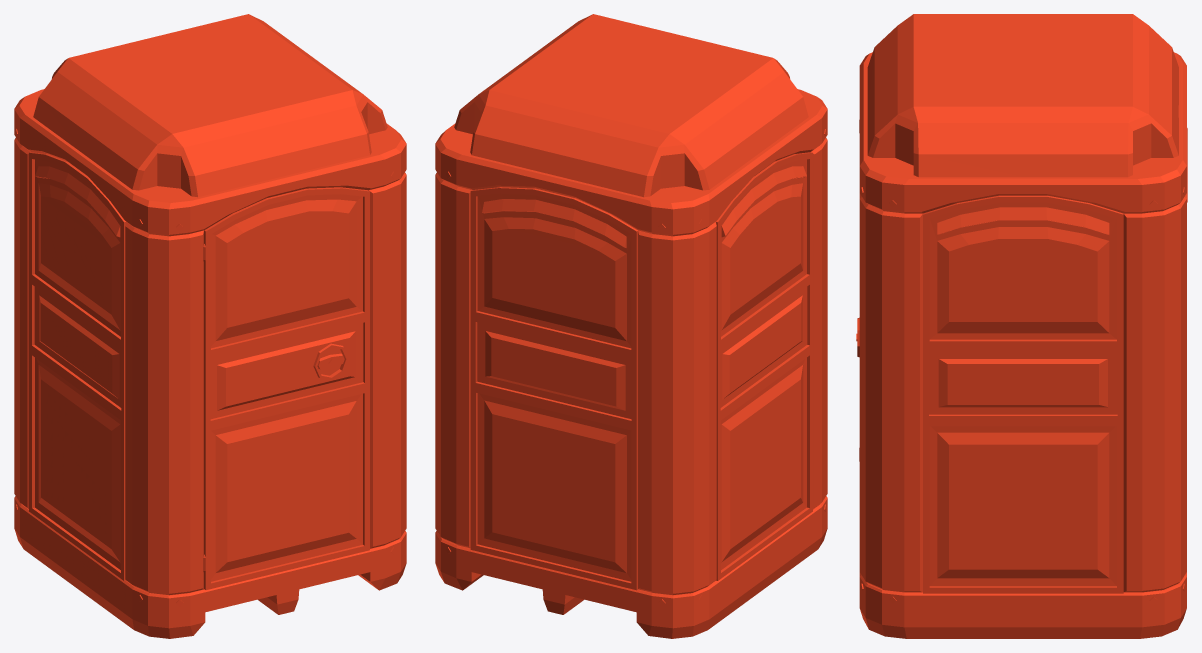
File: SM_Toilet_Outdoor_City.fbx
3 renders of one model, left to right at view 1: azimuth 30°, elevation 25°; view 2: azimuth 150°, elevation 25°; view 3: azimuth 270°, elevation 25°, orthographic. The views are drawn at different scales.
Visible parts, largest first — view 1: SM_Toilet_Outdoor_City_Base, SM_Toilet_Outdoor_City_Door; view 2: SM_Toilet_Outdoor_City_Base; view 3: SM_Toilet_Outdoor_City_Base.
Boxes of the visible parts, <box> form: SM_Toilet_Outdoor_City_Base: <box>14,14,406,638</box>; SM_Toilet_Outdoor_City_Door: <box>203,187,369,589</box>; SM_Toilet_Outdoor_City_Base: <box>435,14,827,638</box>; SM_Toilet_Outdoor_City_Base: <box>859,14,1187,638</box>.
Size of the model in its own units: 1.64 by 2.8 by 1.65.
